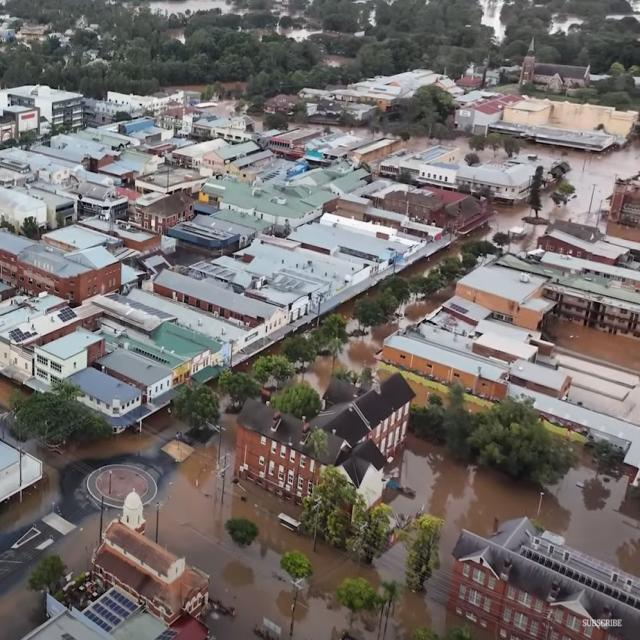flood: (160, 415, 405, 640), (386, 436, 640, 640), (0, 411, 179, 532), (522, 139, 640, 240), (335, 282, 455, 380), (400, 201, 548, 280), (544, 314, 640, 374), (0, 580, 41, 640), (59, 511, 98, 570), (297, 356, 333, 394), (149, 0, 233, 14), (480, 0, 507, 41), (482, 0, 507, 41), (550, 13, 586, 34), (0, 379, 20, 410), (403, 136, 441, 151), (279, 30, 321, 41), (323, 126, 374, 134), (177, 86, 204, 94), (225, 81, 244, 90), (290, 120, 310, 128), (249, 112, 260, 120), (372, 131, 383, 136)
house: (24, 520, 228, 638), (453, 515, 638, 637), (300, 372, 416, 524), (381, 306, 539, 408), (70, 341, 184, 424), (30, 226, 131, 306), (239, 403, 315, 507), (462, 264, 553, 337), (554, 278, 640, 345), (543, 224, 637, 277), (8, 82, 84, 136), (33, 325, 103, 382), (0, 433, 44, 513), (132, 190, 188, 235), (1, 91, 40, 143), (606, 176, 639, 232), (494, 170, 526, 204), (417, 160, 458, 186), (264, 307, 290, 335), (204, 148, 227, 170)
